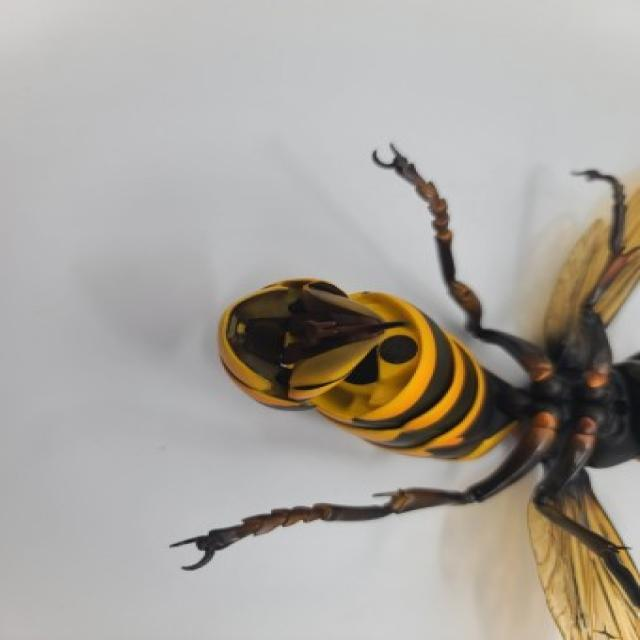Wasp: (168, 120, 638, 638)
